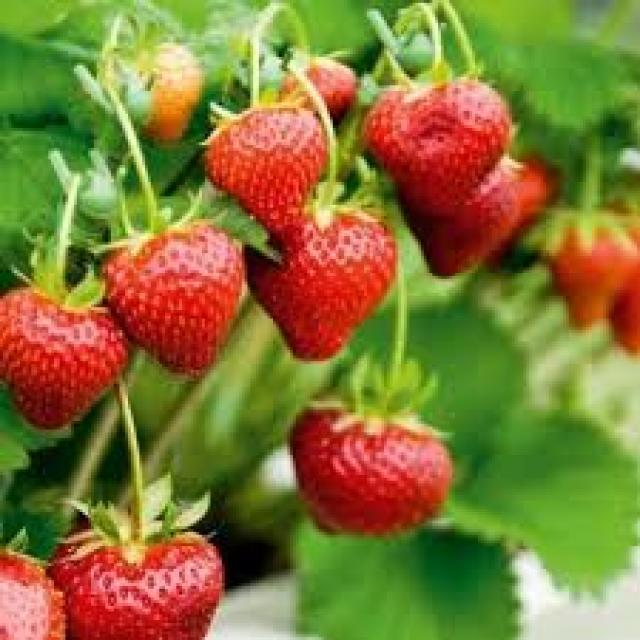Fruta sana: (292, 393, 460, 539), (247, 204, 393, 364), (91, 226, 247, 375), (364, 78, 514, 226), (46, 518, 226, 638), (0, 279, 124, 437), (204, 96, 330, 237), (403, 153, 537, 279), (554, 190, 640, 344)
